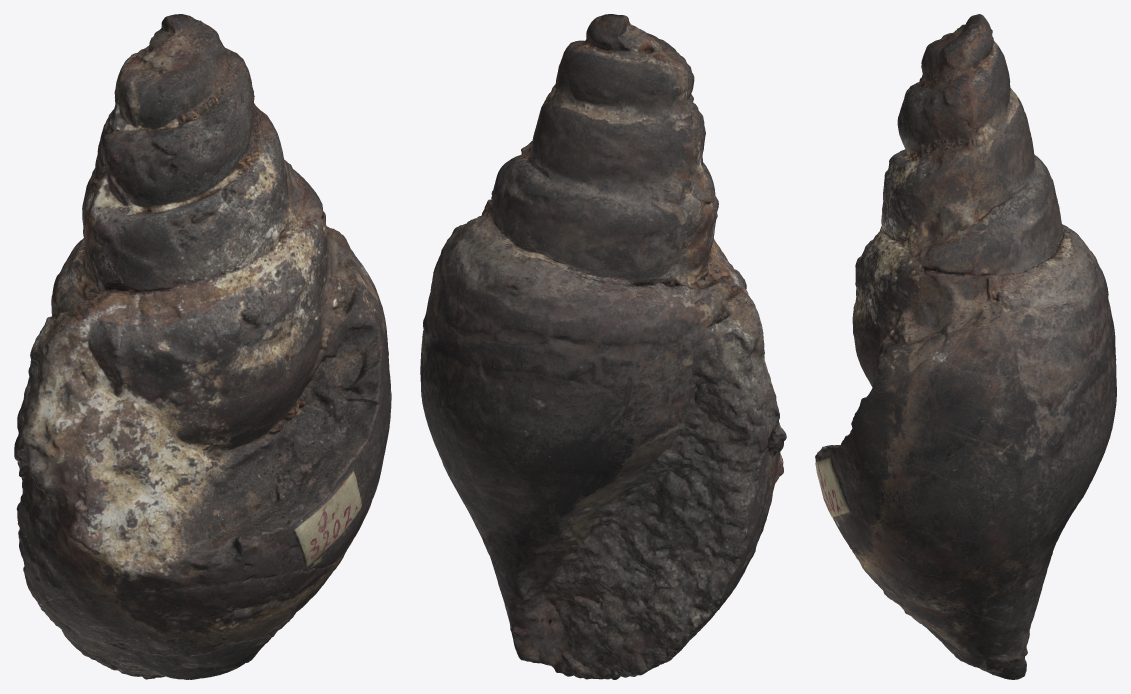
The model's file is EWS0016387.glb.
3 views of the same model, side by side, from view 1: azimuth 30°, elevation 25°; view 2: azimuth 150°, elevation 25°; view 3: azimuth 270°, elevation 25° (orthographic). The views are drawn at different scales.
Parts seen in each view (by area): view 1: input; view 2: input; view 3: input.
Part boxes in pixels (x1=…): input: x1=14, y1=14, x2=391, y2=679; input: x1=420, y1=14, x2=786, y2=679; input: x1=815, y1=14, x2=1116, y2=679.
Bounding box in the file's own units: 0.04 × 0.0746 × 0.0321.
1 material, 1 textured.
